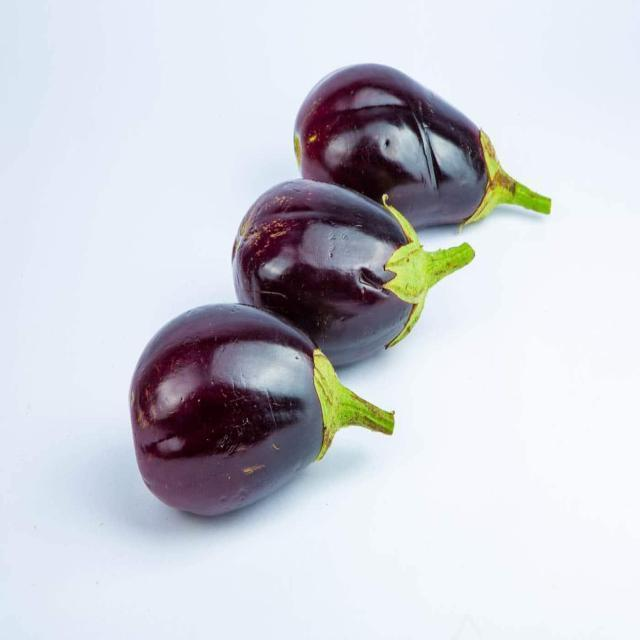Eggplant: (128, 304, 392, 521), (231, 179, 474, 369), (292, 64, 548, 233)
